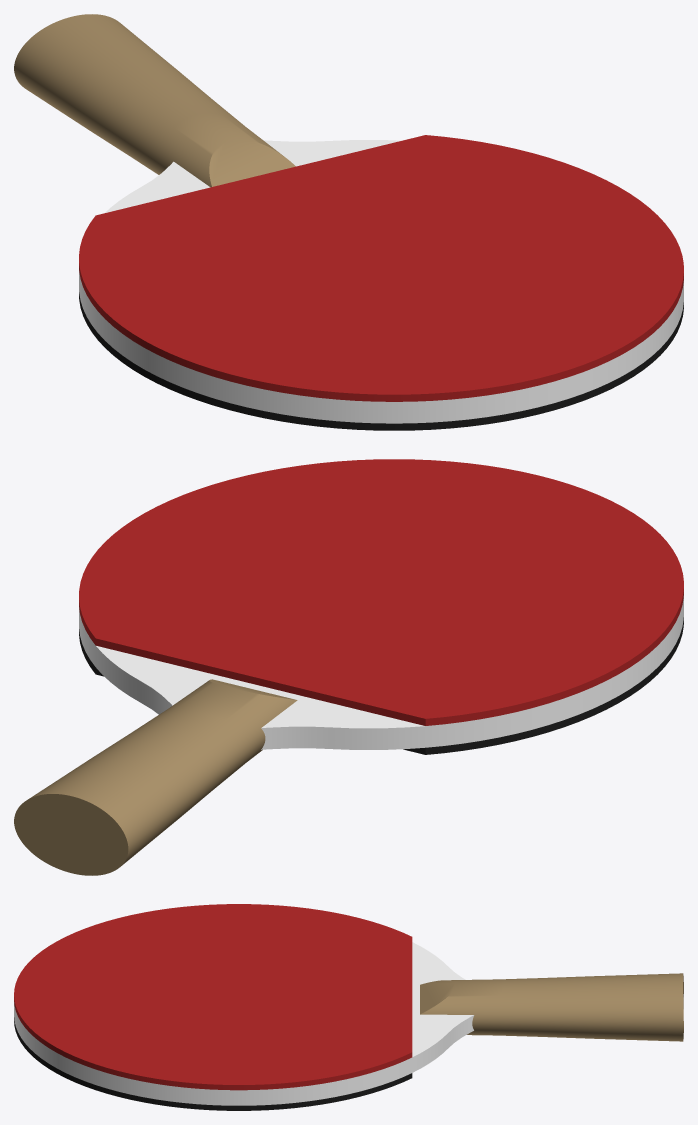
3 renders of one model, top to bottom at view 1: azimuth 30°, elevation 25°; view 2: azimuth 150°, elevation 25°; view 3: azimuth 270°, elevation 25°, orthographic. The views are drawn at different scales.
Parts seen in each view (by area): view 1: 球面, 手柄, 拍子, 球面.001; view 2: 球面, 手柄, 拍子, 球面.001; view 3: 球面, 手柄, 拍子, 球面.001.
Boxes of the visible parts, bbox=[...] form: 球面: bbox=[79, 135, 683, 401]; 手柄: bbox=[14, 14, 295, 187]; 拍子: bbox=[79, 140, 683, 423]; 球面.001: bbox=[79, 292, 683, 430]; 球面: bbox=[79, 459, 683, 725]; 手柄: bbox=[14, 679, 297, 875]; 拍子: bbox=[79, 596, 683, 749]; 球面.001: bbox=[79, 617, 683, 754]; 球面: bbox=[14, 904, 412, 1090]; 手柄: bbox=[420, 973, 683, 1041]; 拍子: bbox=[14, 942, 474, 1105]; 球面.001: bbox=[14, 1017, 412, 1110].
Bounding box in the file's own units: 0.15 × 0.0213 × 0.2345.
